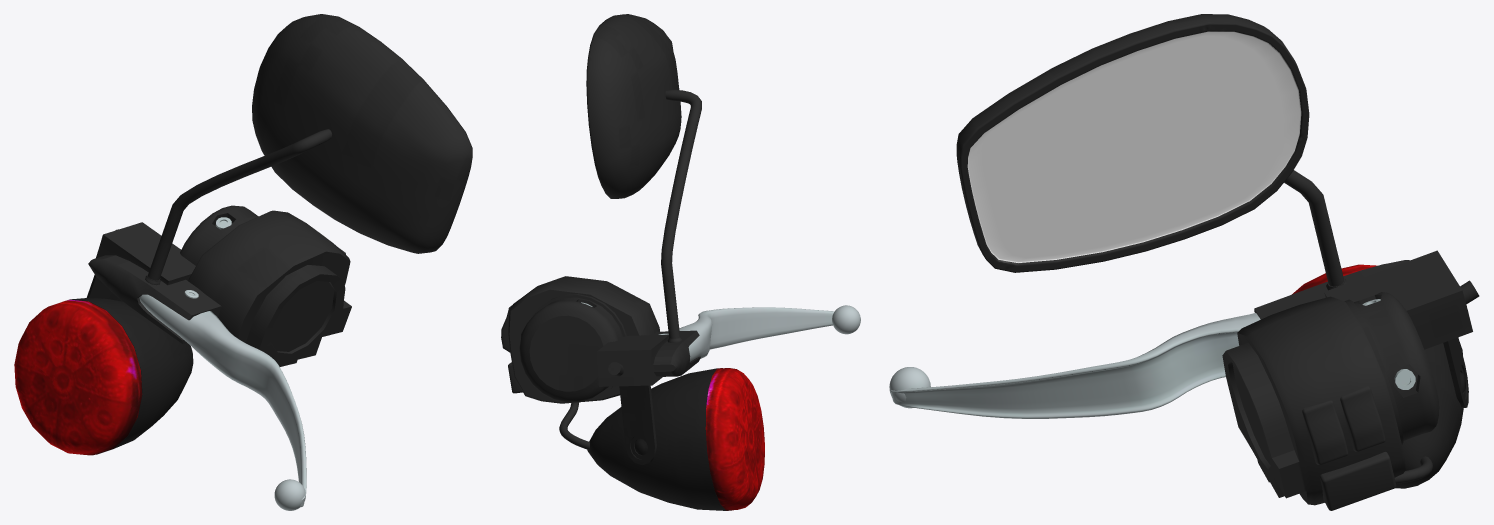
File: specchio_sx.glb
3 views of the same model, side by side, from view 1: azimuth 30°, elevation 25°; view 2: azimuth 150°, elevation 25°; view 3: azimuth 270°, elevation 25° (orthographic). The views are drawn at different scales.
Parts seen in each view (by area): view 1: ricambio; view 2: ricambio; view 3: ricambio.
Boxes of the visible parts, x1,y1,x2,y2 form: ricambio: (14,14,472,510); ricambio: (501,14,860,510); ricambio: (889,14,1479,510).
Size of the model in its own units: 0.1495 by 0.2109 by 0.2009.
Materials: 5 (5 with a texture image).
